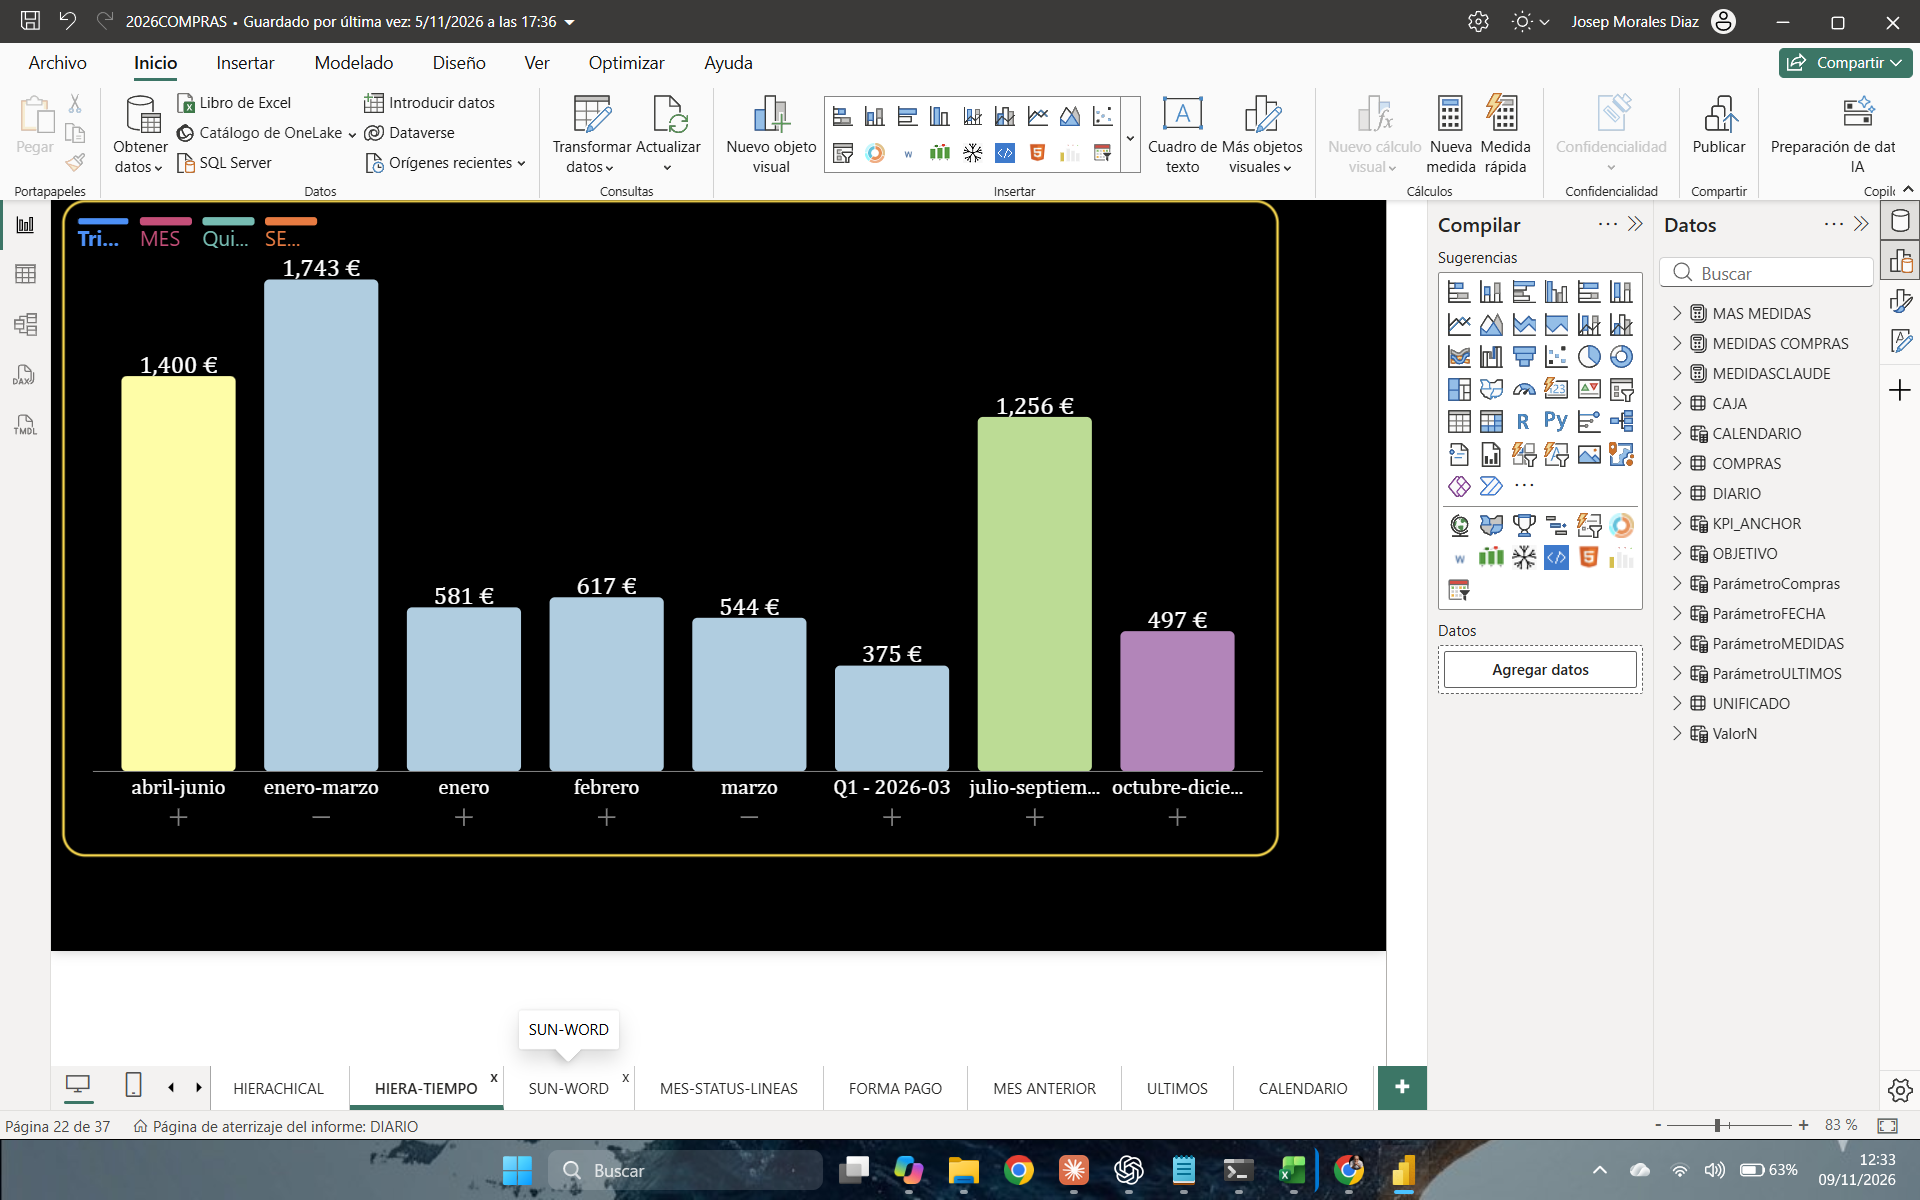

Layout of this report page (visuals, bound fields, positions):
{"tool":"powerbi","page":{"name":"HIERA-TIEMPO","canvas":[1280,720],"ordinal":21},"visuals":[{"type":"hierarchy50DB3783432B40A69C0B91926CE74CD9","fields":{"Category":["CALENDARIO.Trimestre","CALENDARIO.MES","CALENDARIO.Quincena","CALENDARIO.SEMANA PERIODO"],"Measure":["MEDIDAS DIARIO.TOTAL GASTOS 2026"]},"box":[10.4,0,1166.5,629.5],"z":0}]}

Visuals, with their boxes on the page's 1280x720 design canvas (x1, y1, x2, y2). These are canvas units, not pixel positions in the 1920x1200 screenshot, which may show the page scaled, cropped or inside an application window:
hierarchy50DB3783432B40A69C0B91926CE74CD9 - CALENDARIO.Trimestre x CALENDARIO.MES: box=[10, 0, 1177, 630]
